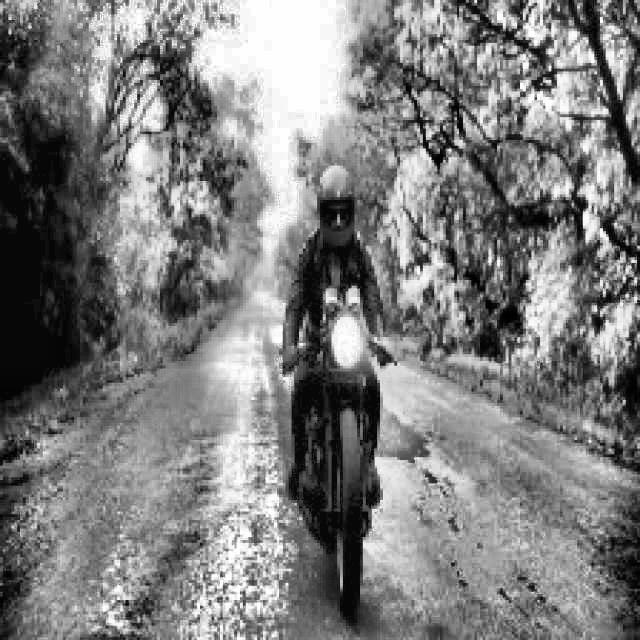motorcycle: (238, 286, 430, 628)
